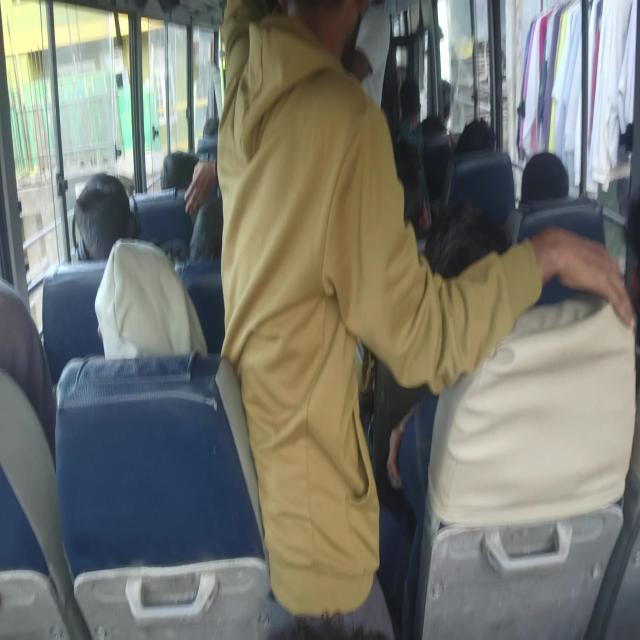person: (224, 5, 392, 479), (102, 235, 197, 370), (519, 138, 598, 260), (443, 198, 515, 299), (611, 181, 640, 430), (68, 184, 144, 261), (0, 297, 48, 406), (391, 138, 436, 233), (183, 206, 236, 284), (162, 156, 207, 213), (460, 121, 511, 171), (397, 81, 439, 121), (202, 120, 235, 167), (424, 118, 446, 152), (497, 366, 498, 384)
